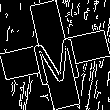M_N: (27, 25, 83, 85)
